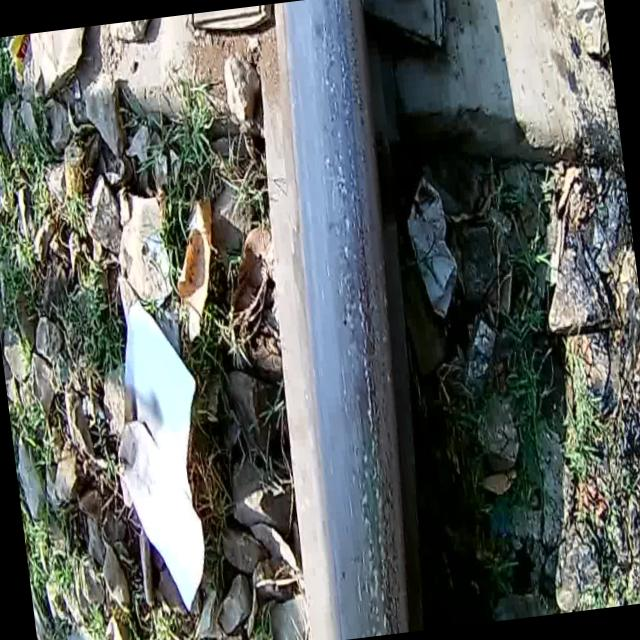Flakings: (280, 0, 431, 637)
